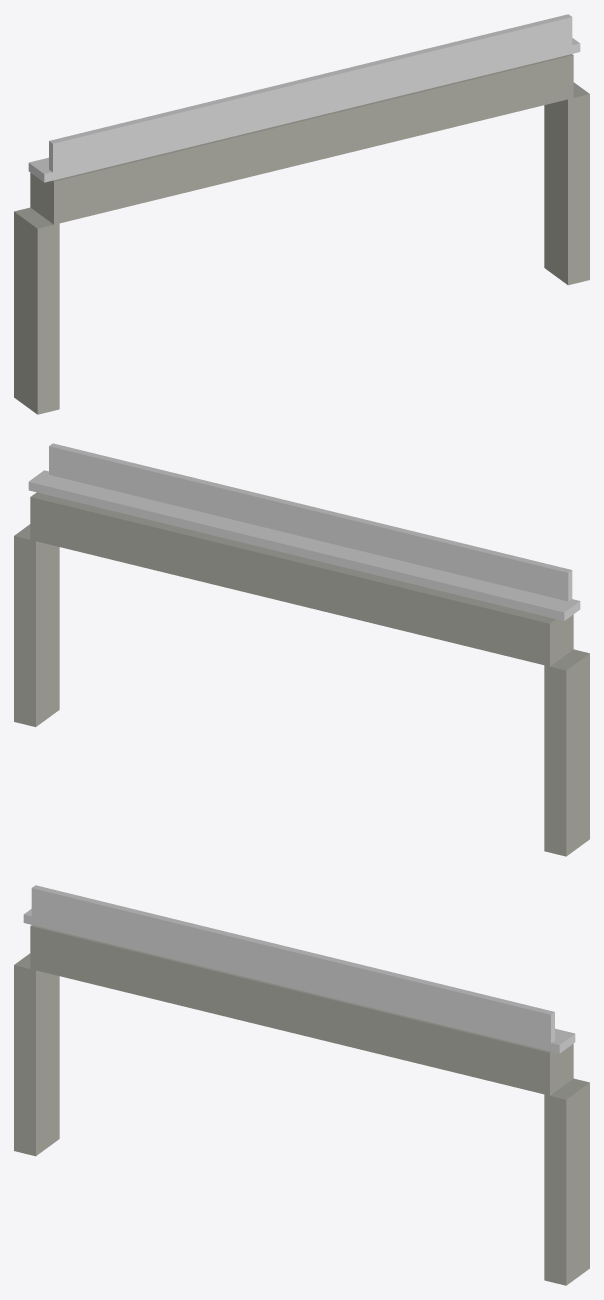
File: SM_MuroTrinchera_Boca_v0_Liso_LOD1.fbx
3 renders of one model, top to bottom at view 1: azimuth 30°, elevation 25°; view 2: azimuth 150°, elevation 25°; view 3: azimuth 330°, elevation 25°, orthographic.
Parts seen in each view (by area): view 1: SM_muro_trinchera_v5_LOD1; view 2: SM_muro_trinchera_v5_LOD1; view 3: SM_muro_trinchera_v5_LOD1.
Boxes of the visible parts, x1=… form: SM_muro_trinchera_v5_LOD1: x1=14, y1=14, x2=589, y2=414; SM_muro_trinchera_v5_LOD1: x1=14, y1=443, x2=589, y2=856; SM_muro_trinchera_v5_LOD1: x1=14, y1=885, x2=589, y2=1285.
Size of the model in its own units: 20.2 by 9.3 by 1.5.
